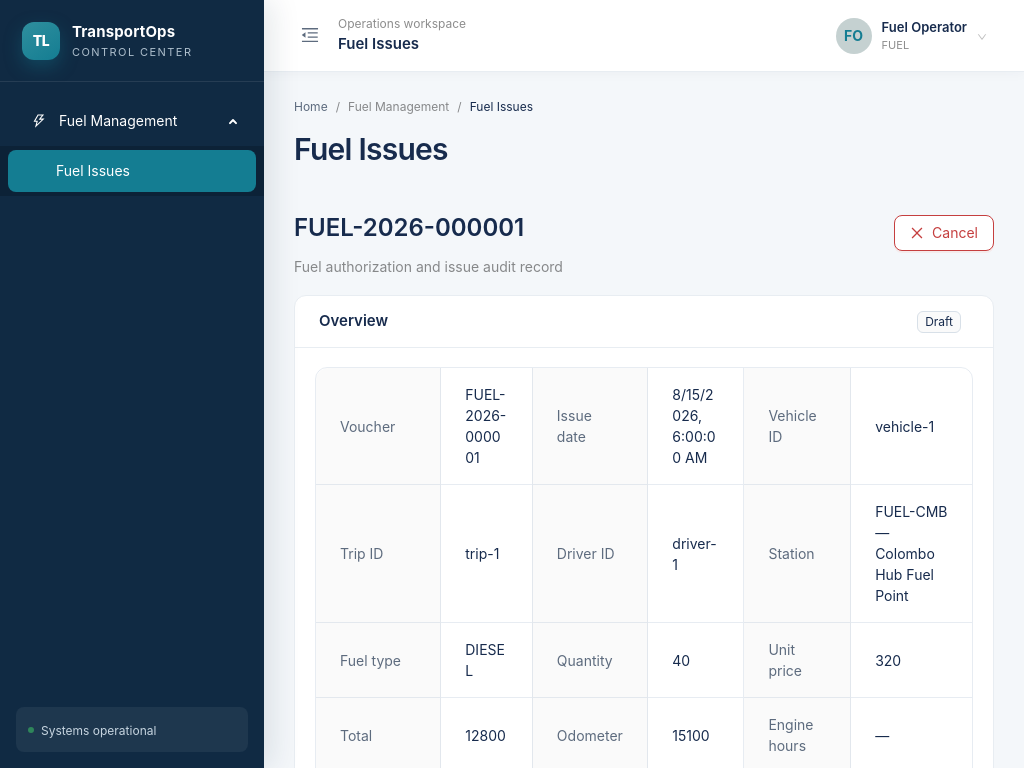
Test case: Fuel Issue MVP pages › requires a cancellation reason before enabling cancellation
Click the button "Cancel" at {"x": 944, "y": 232}, box [894,214,994,250]
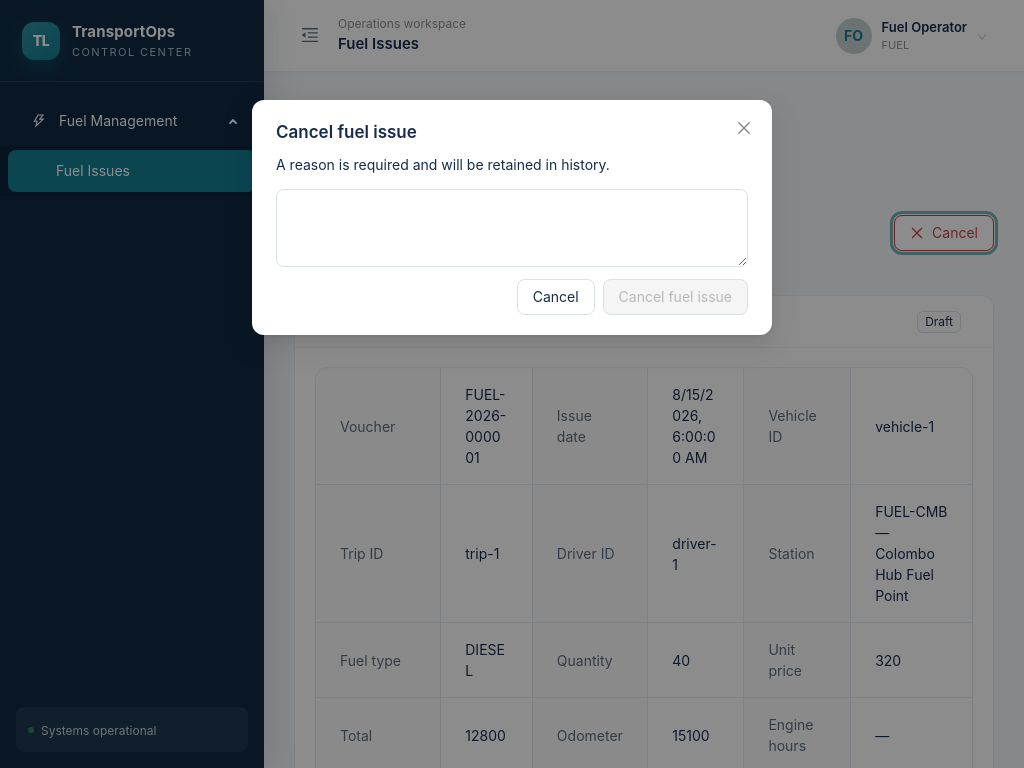
Expected: the button "Cancel fuel issue" is disabled, [603,278,748,314]
Type "Entered in error" into the text box named "Cancellation reason" at {"x": 512, "y": 228}, box [276,188,748,266]
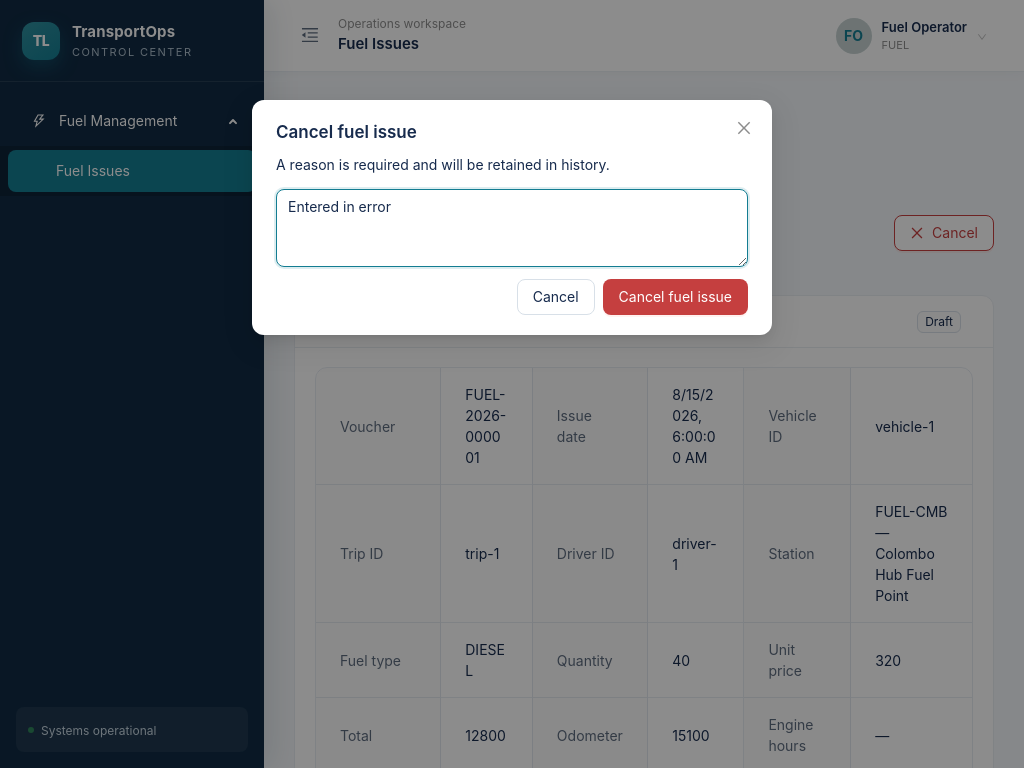
Expected: the button "Cancel fuel issue" is enabled, [603,278,748,314]
